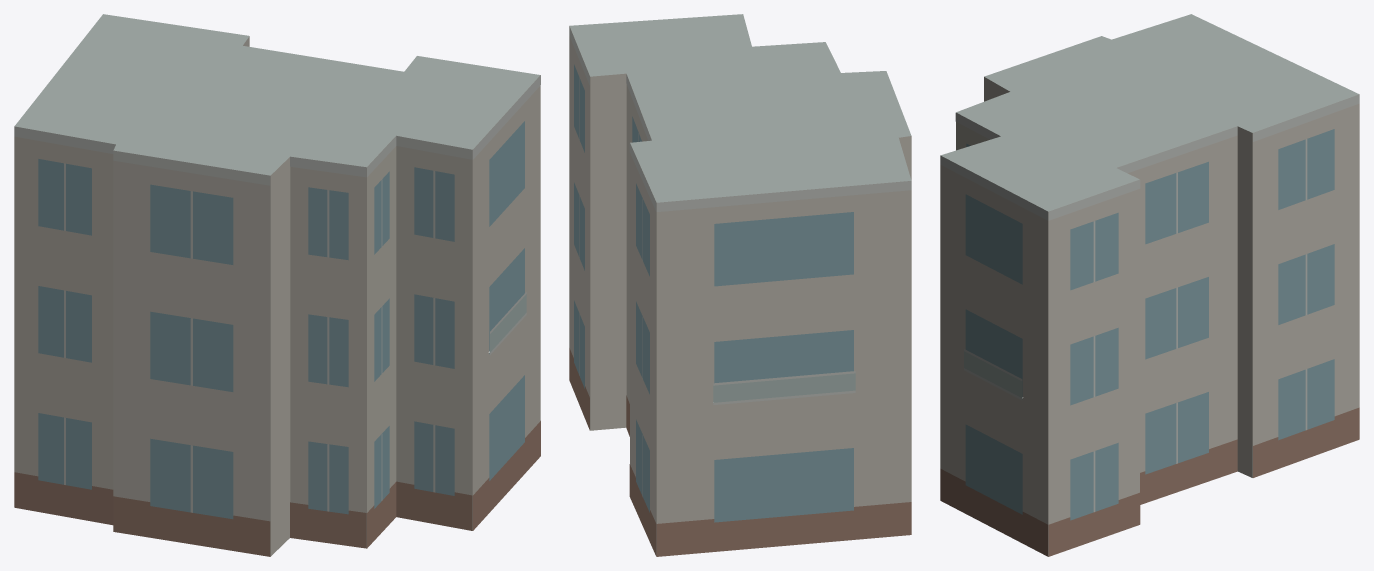
The model's file is survey-upis-32696429.glb.
The picture shows the model from 3 angles, left to right: view 1: azimuth 30°, elevation 25°; view 2: azimuth 150°, elevation 25°; view 3: azimuth 270°, elevation 25°; orthographic projection. The views are drawn at different scales.
Parts seen in each view (by area): view 1: survey-upis-32696429.tmp; view 2: survey-upis-32696429.tmp; view 3: survey-upis-32696429.tmp.
Boxes of the visible parts, left/top/right/bottom form: survey-upis-32696429.tmp: left=14, top=14, right=540, bottom=556; survey-upis-32696429.tmp: left=569, top=14, right=911, bottom=556; survey-upis-32696429.tmp: left=940, top=14, right=1359, bottom=556.
Size of the model in its own units: 11.25 by 9.15 by 10.08.
